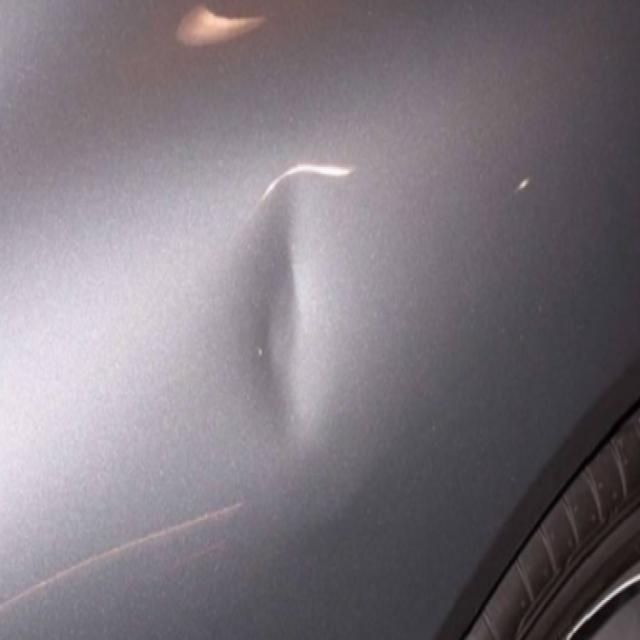dents: (226, 155, 343, 481)
